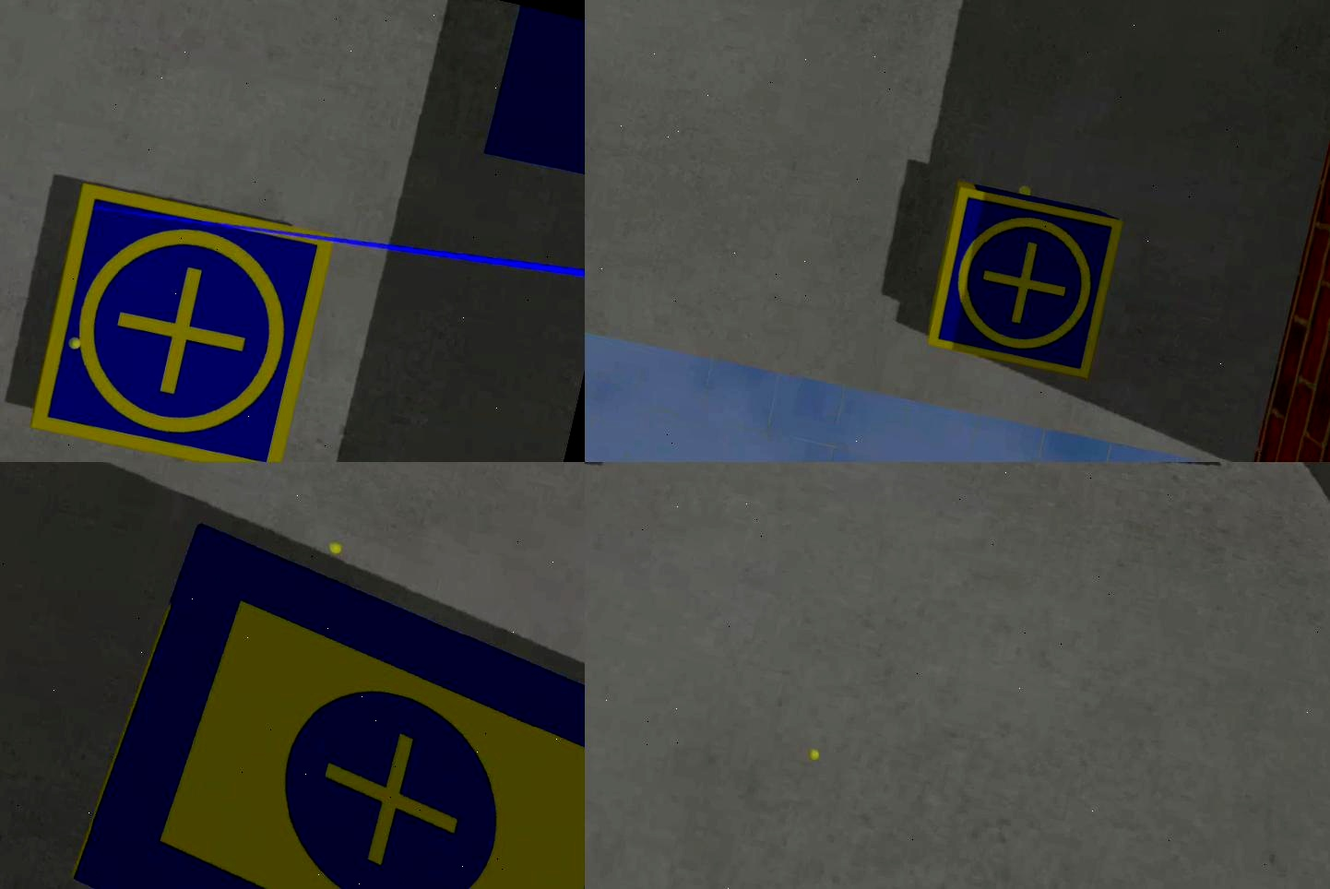large_base: (53, 506, 585, 889), (480, 4, 585, 192)
small_base: (25, 179, 338, 462), (920, 182, 1126, 385)
